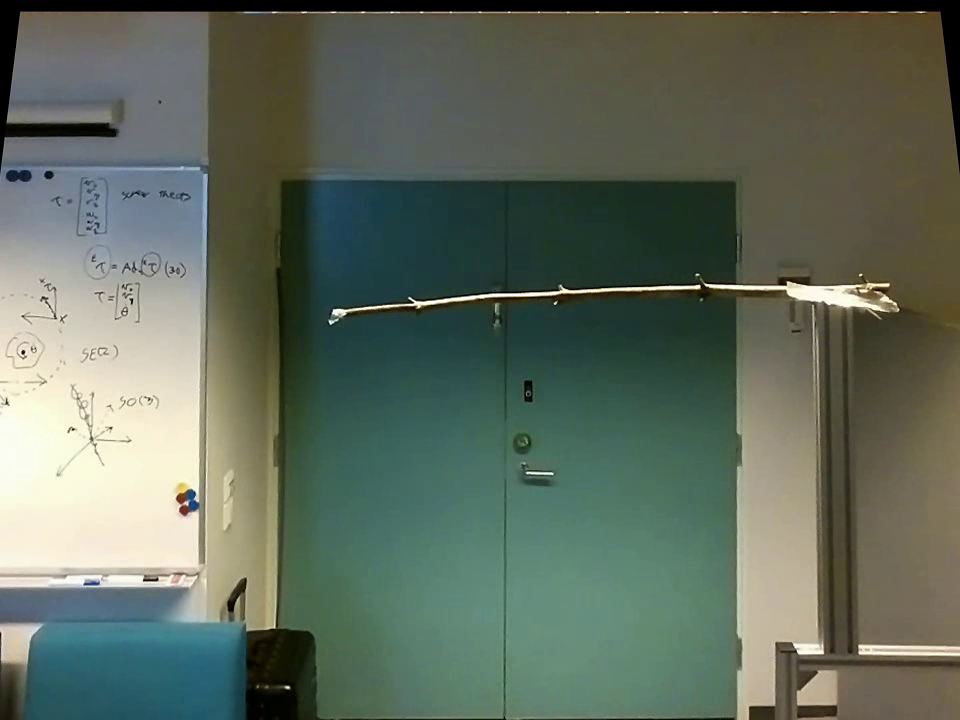aluminum_frame: (805, 304, 867, 652), (0, 555, 210, 598), (195, 162, 212, 577), (796, 638, 958, 674), (2, 158, 211, 181), (770, 639, 802, 719)
branch: (349, 262, 787, 342)
